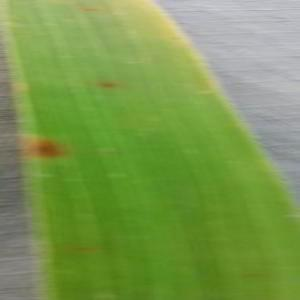0 BrownSpot: (23, 132, 73, 166), (95, 77, 120, 91), (80, 3, 103, 14)
